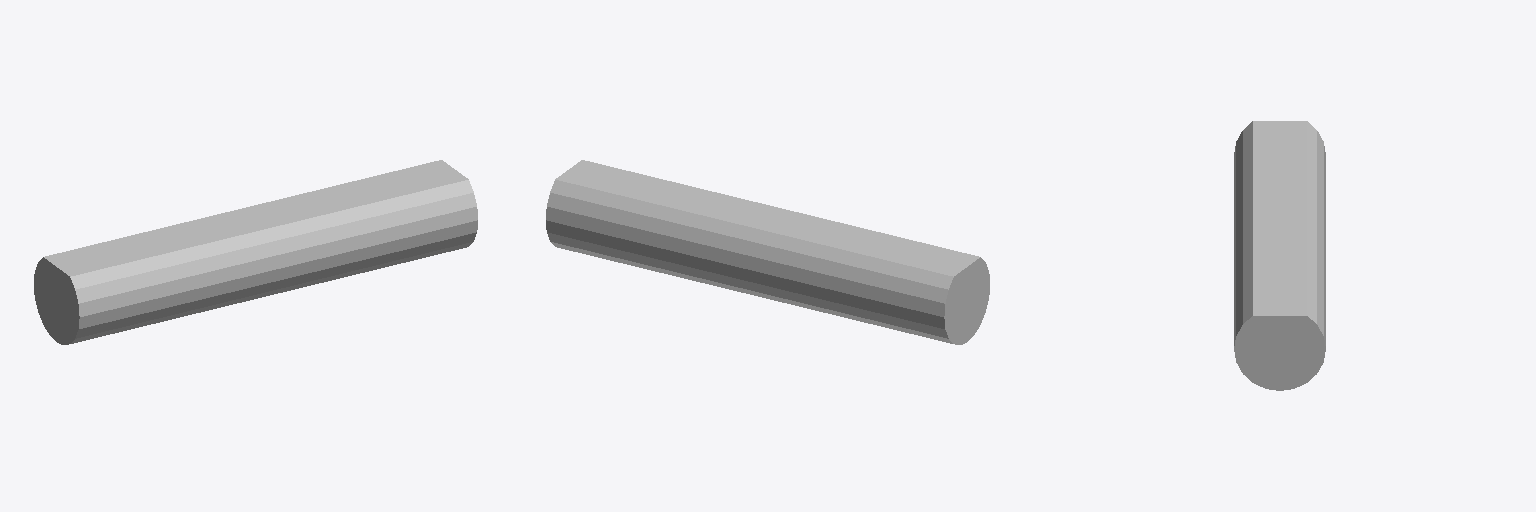
The model's file is float_visual_float.obj.
3 renders of one model, left to right at view 1: azimuth 30°, elevation 25°; view 2: azimuth 150°, elevation 25°; view 3: azimuth 270°, elevation 25°, orthographic.
Parts seen in each view (by area): view 1: float_visual_float; view 2: float_visual_float; view 3: float_visual_float.
Boxes of the visible parts, <box> form: float_visual_float: <box>34,160,477,344</box>; float_visual_float: <box>546,160,989,344</box>; float_visual_float: <box>1234,121,1325,390</box>.
Bounding box in the file's own units: 0.3 × 0.0543 × 0.06.